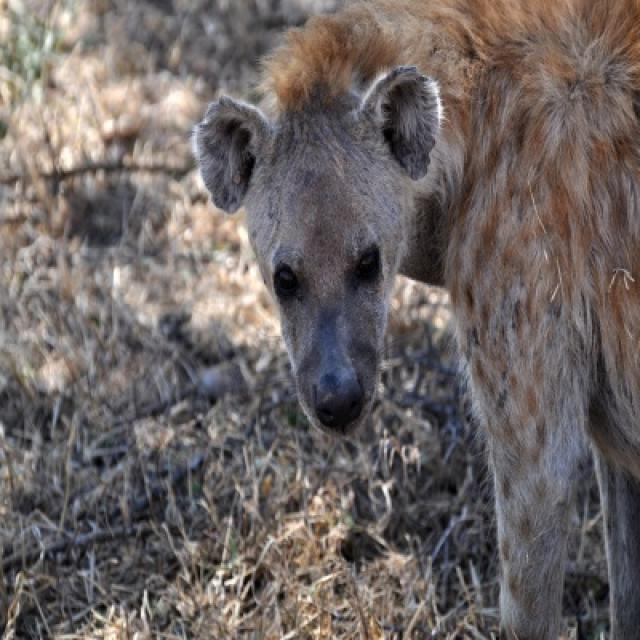hyena: (189, 0, 638, 638)
